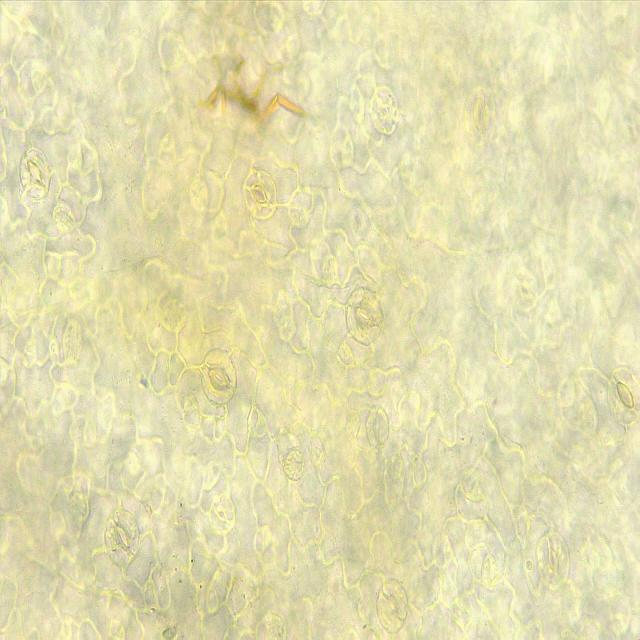Stomata: (345, 283, 386, 347), (103, 507, 142, 570), (605, 364, 640, 432), (200, 346, 240, 405), (535, 531, 573, 588), (462, 83, 496, 146), (376, 576, 410, 634), (19, 145, 52, 202), (243, 170, 279, 220), (209, 494, 237, 537)
